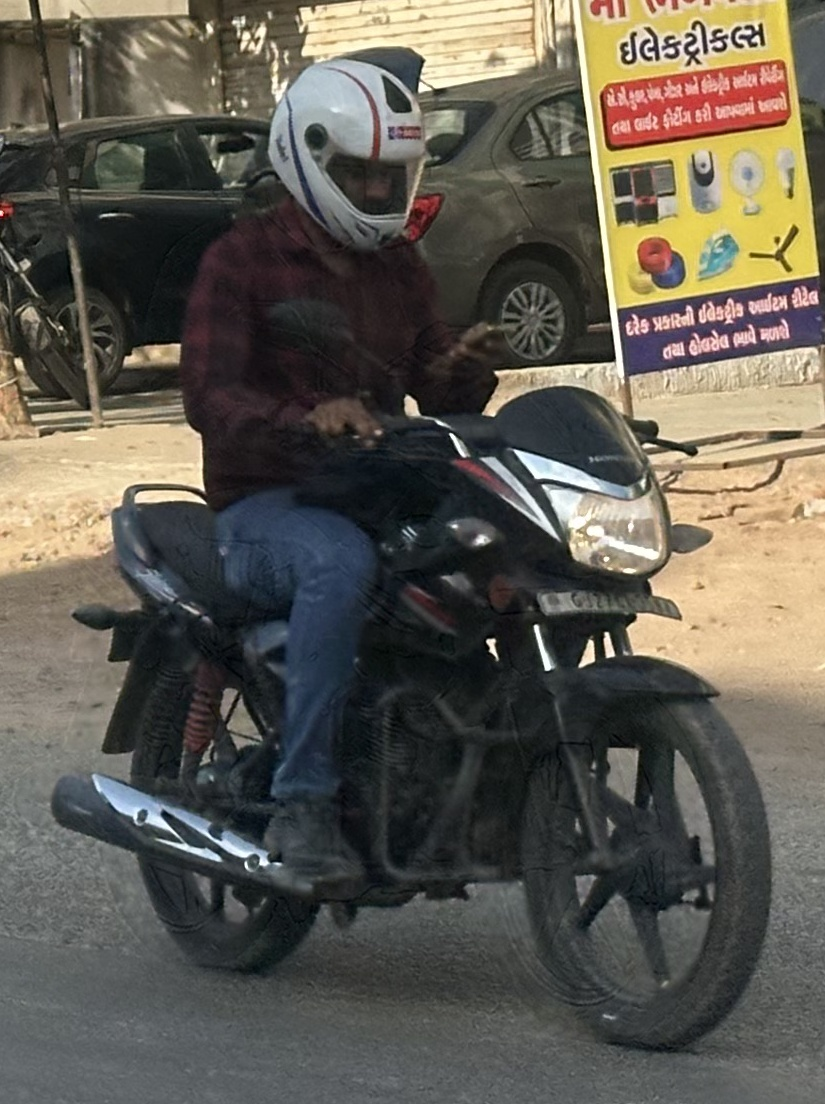BikeWithRider: (47, 50, 774, 1051)
Helmet: (259, 53, 424, 258)
